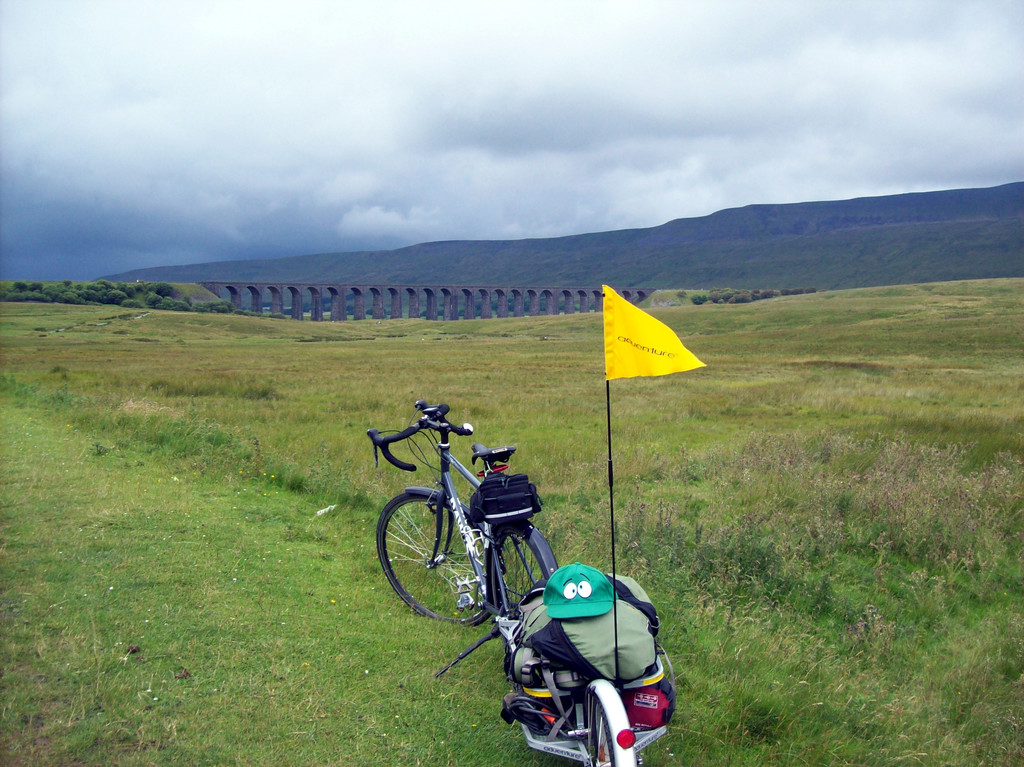Bike: (350, 415, 539, 656)
